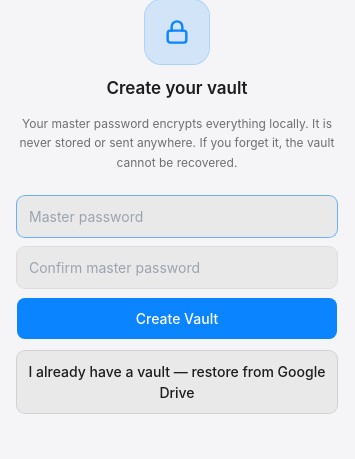
Test: LockScreen › requires a confirmed, long-enough password when creating a vault
Step 1. Type "short" into the password field with placeholder "Master password" → [177, 216], box left=17, top=196, right=337, bottom=237
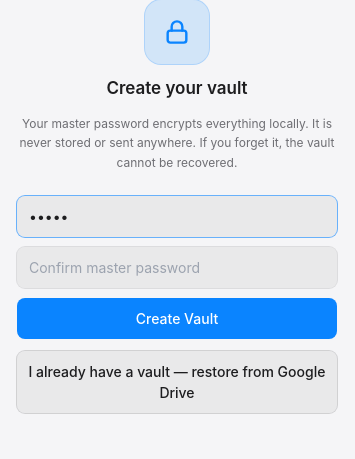
Step 2. Click the button "Create Vault" → [177, 318], box left=17, top=298, right=337, bottom=339
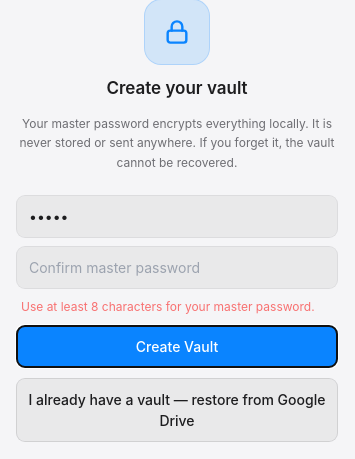
Now the text "Use at least 8 characters for your master password." is shown, box left=17, top=298, right=337, bottom=316
Step 3. Type "long-enough-pw" into the password field with placeholder "Master password" → [177, 216], box left=17, top=196, right=337, bottom=237
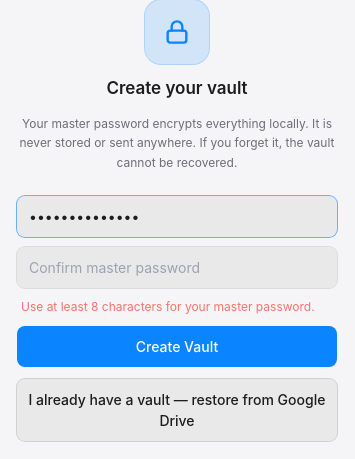
Step 4. Type "different-pw" into the password field with placeholder "Confirm master password" → [177, 268], box left=17, top=247, right=337, bottom=288
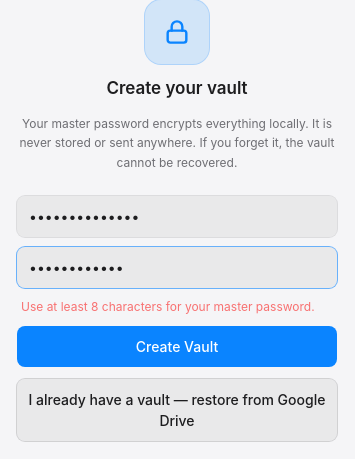
Step 5. Click the button "Create Vault" → [177, 346], box left=17, top=326, right=337, bottom=367
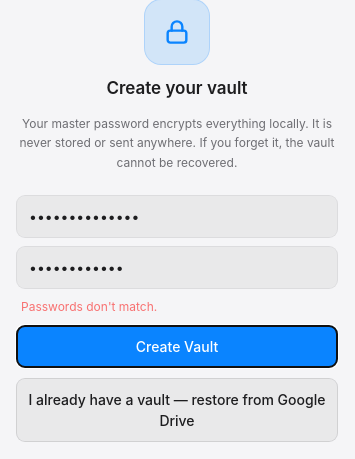
Now the text "Passwords don't match." is shown, box left=21, top=299, right=157, bottom=314
